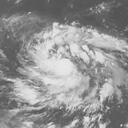cyclone: (14, 22, 108, 111)
